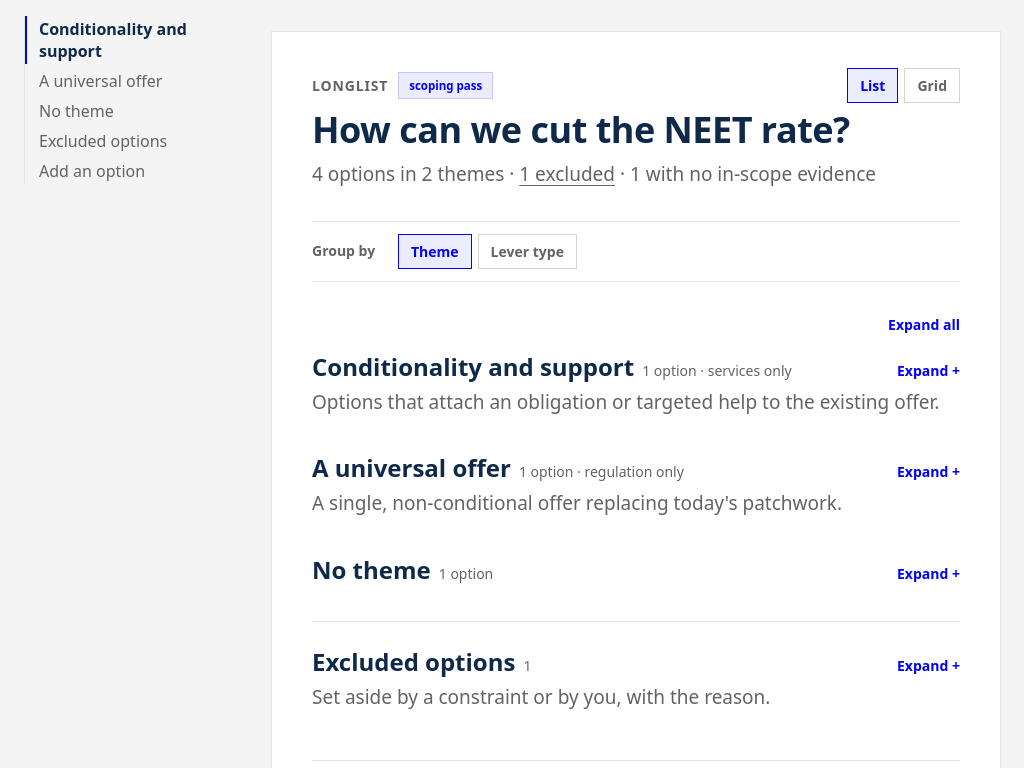
Test case: LonglistView › carries the evidence signal on the grey line, without a document count part
Click the button "Expand all". click: (924, 324)
box: [888,314,960,334]
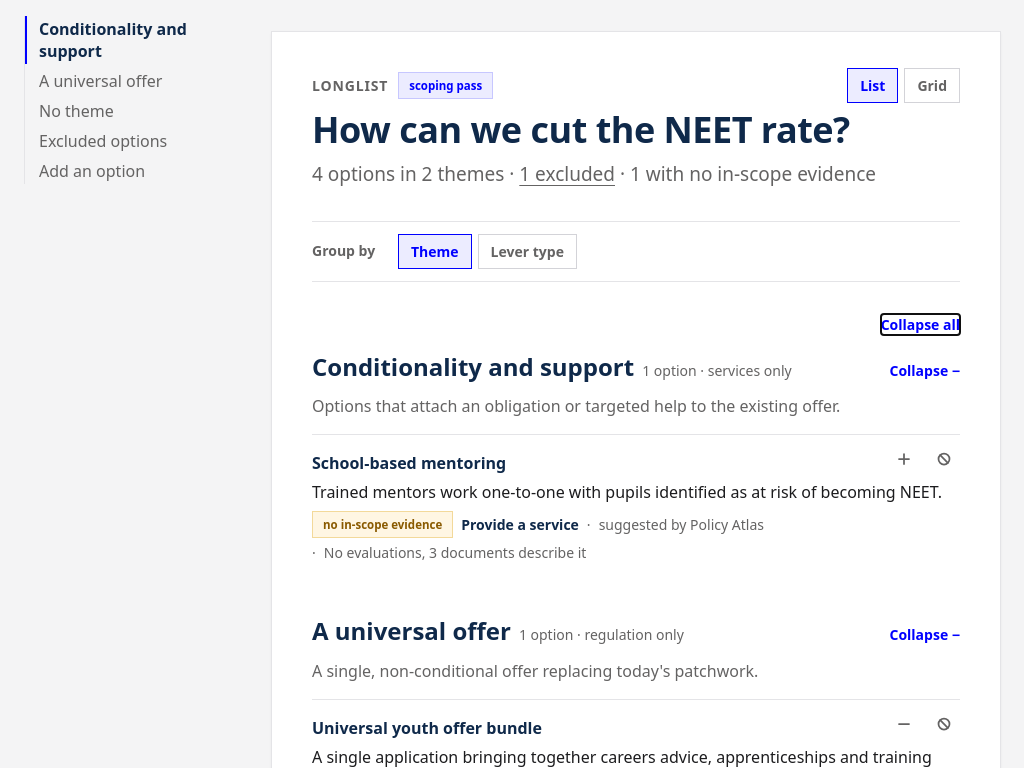
Now the text "No evaluations, 3 documents describe it" is shown, box [324,542,586,563]
